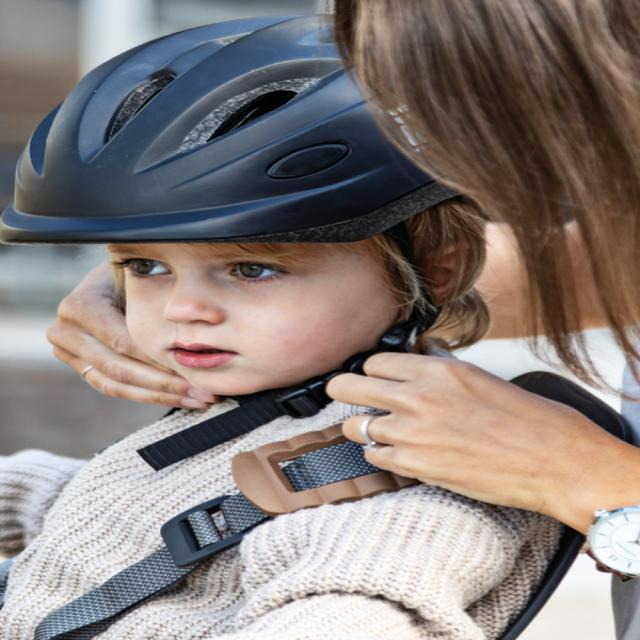helmet: (6, 16, 484, 424)
